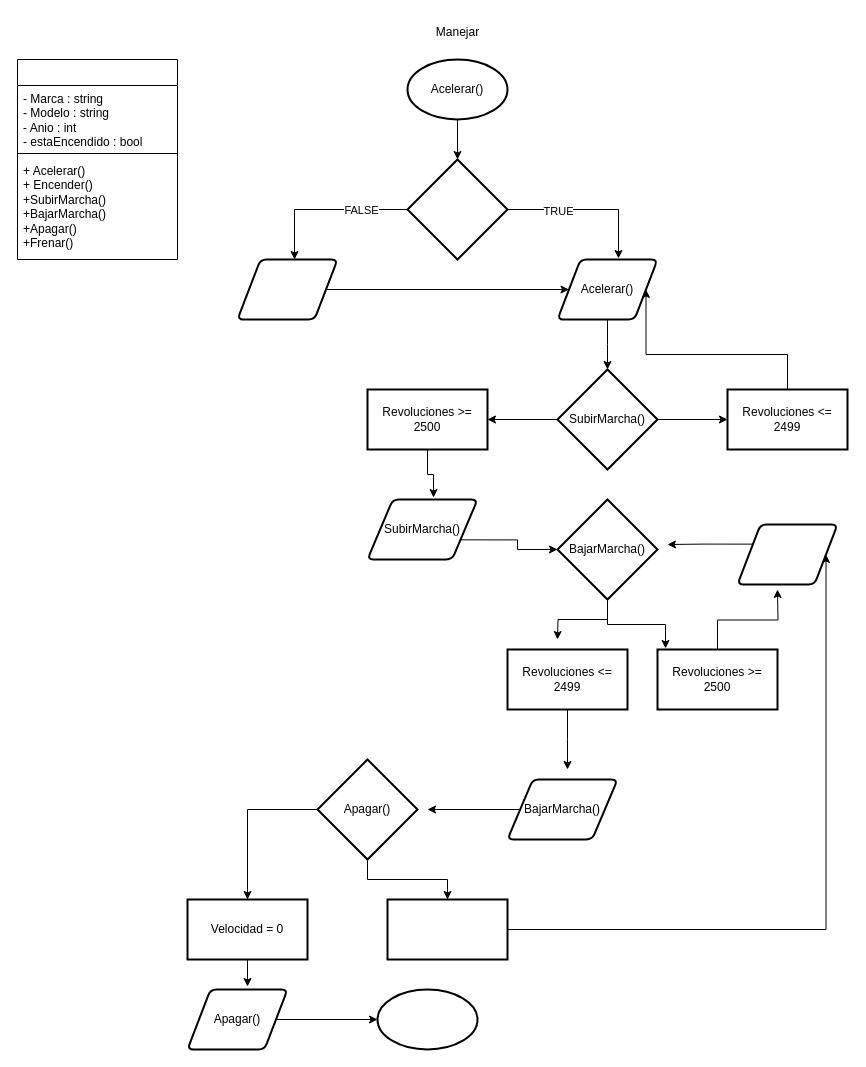
Some shapes in this 866 by 1067 pixel diagram are drawn without their labels. The shapes that lost their labels are listed below. From the top down, each one's box as (x1, y1, x2, y2) in pixels, then its label:
(16, 58, 178, 260): Auto
(406, 158, 508, 260): estaEncendido
(236, 258, 338, 320): Encender()
(736, 523, 838, 585): Frenar()
(386, 898, 508, 960): Velocidad > 0
(376, 988, 478, 1050): Fin
